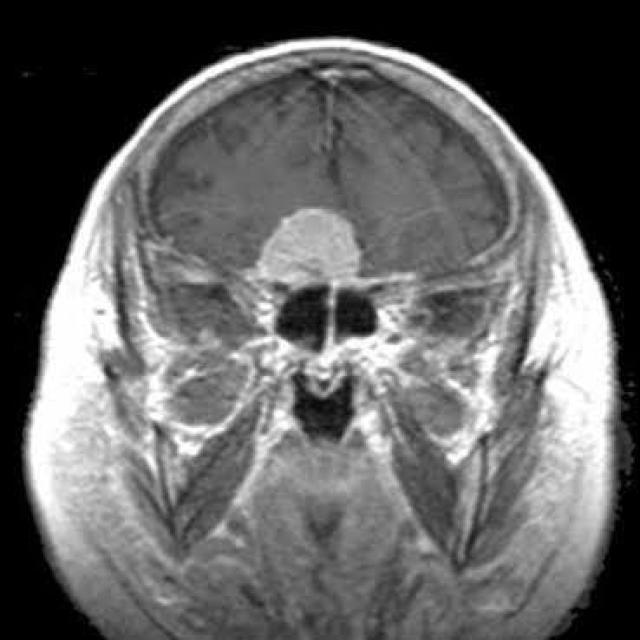Tumor: (258, 209, 362, 288)
